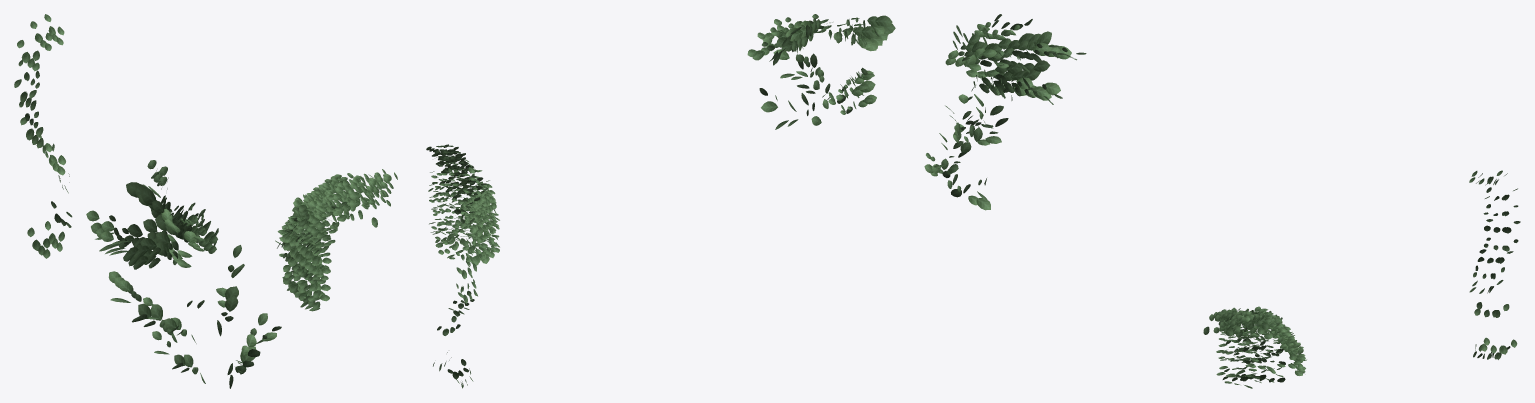
The model's file is VineLeaves.glb.
3 views of the same model, side by side, from view 1: azimuth 30°, elevation 25°; view 2: azimuth 150°, elevation 25°; view 3: azimuth 270°, elevation 25° (orthographic). The views are drawn at different scales.
Bounding box in the file's own units: 10.21 × 6.92 × 14.36.
Materials: 1 (1 with a texture image).
